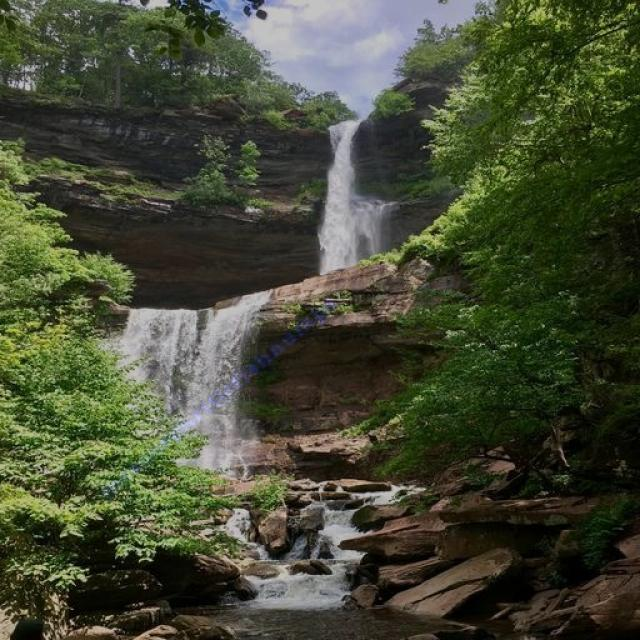watermark: (100, 288, 336, 502)
